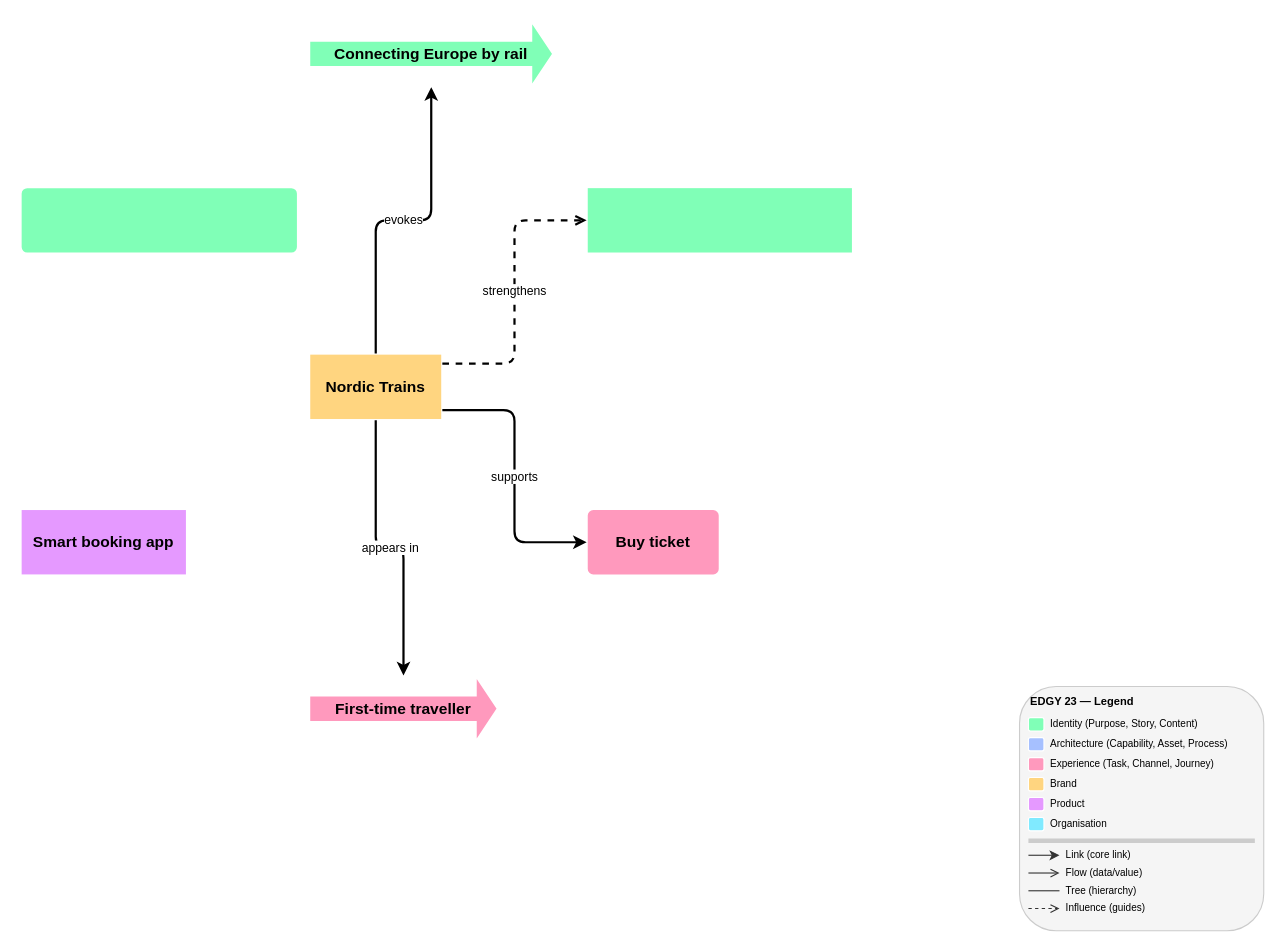
Image size: 1283x950. Some labels were removed from this diagram. The centre of each missing label's shape, as x and y in pixels:
"Reliable European mobility for all" goes at (159,219).
"Reliable, sustainable, accessible" goes at (719,219).
